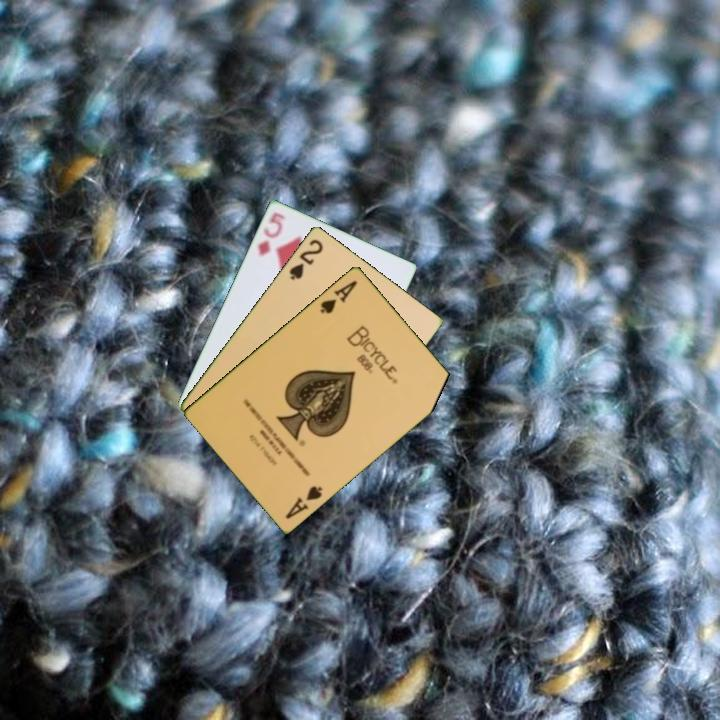2s: (285, 235, 326, 283)
5d: (254, 208, 289, 259)
As: (316, 276, 360, 316), (282, 482, 325, 522)
